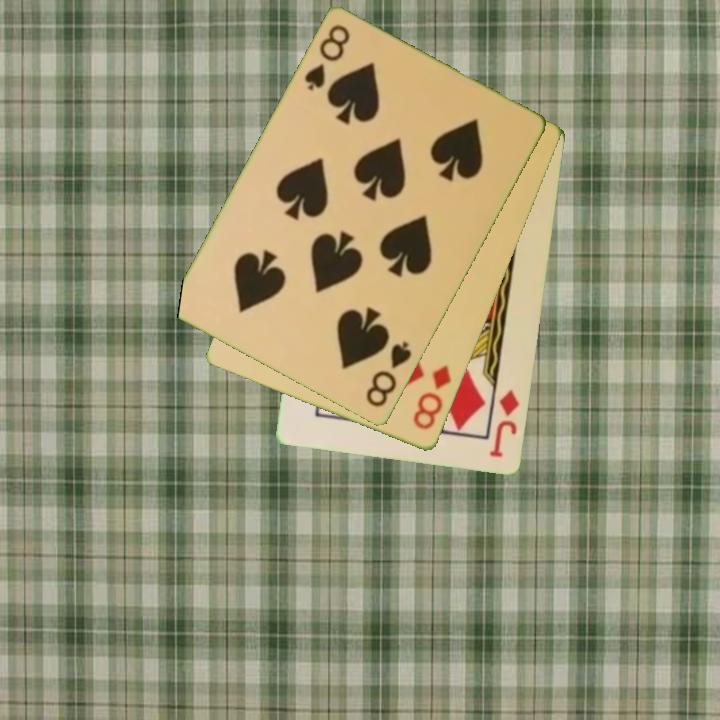8d: (410, 362, 455, 434)
8s: (362, 338, 415, 411), (301, 22, 353, 95)
Jd: (486, 386, 523, 461)
